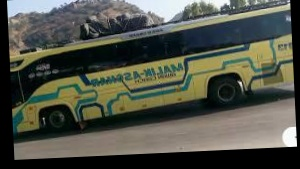bus: (9, 3, 296, 139)
